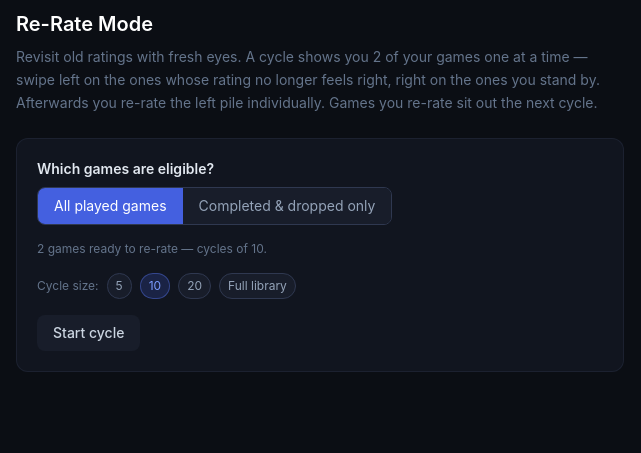
Test: RerateMode — idle screen › surfaces a session failure on the idle screen
Expected: the text "2 games ready to re-rate — cycles of 10." is shown, [37,241,267,256]
Click the button "Start cycle" at (89, 333), box [37,315,140,351]
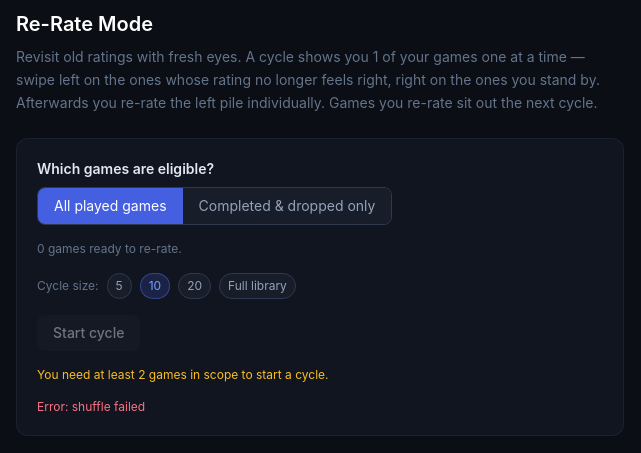
Expected: the text "Error: shuffle failed" is shown, [37,399,145,414]
